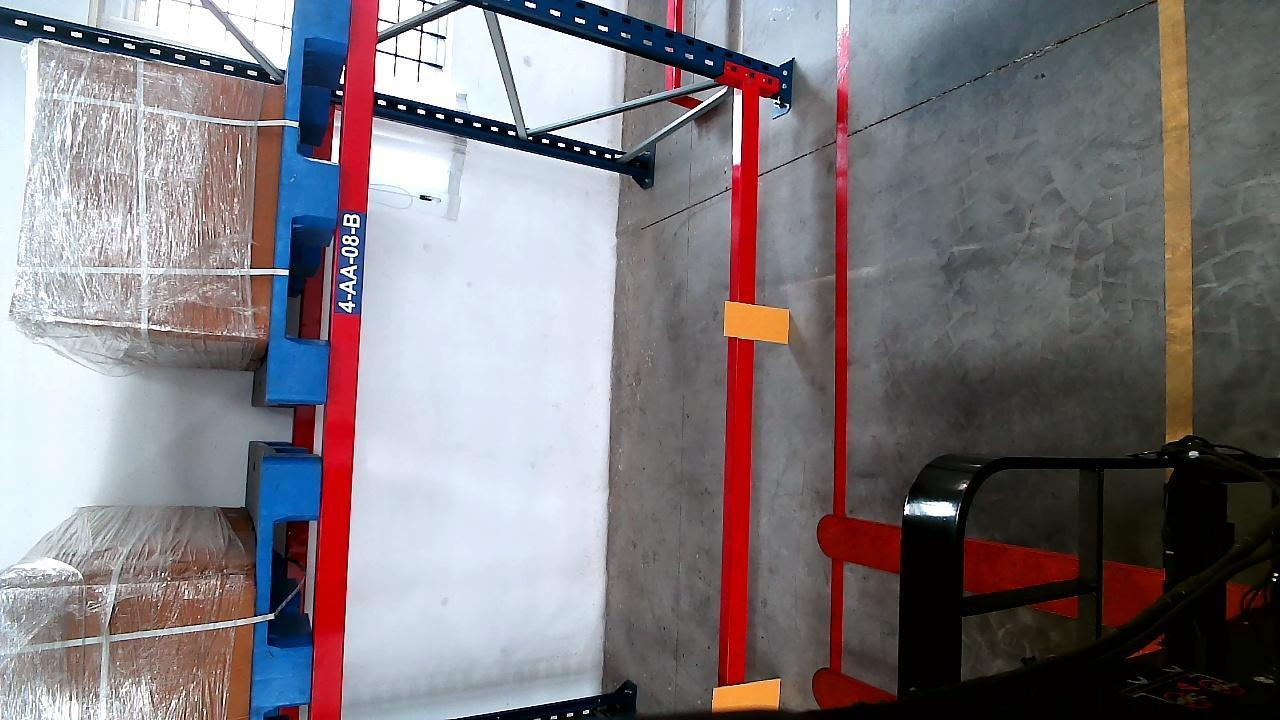h_rack: (308, 0, 382, 720), (721, 86, 762, 710)
orange_strip: (727, 302, 792, 341), (711, 678, 783, 713)
red_line: (830, 0, 850, 668)
small_pallet: (268, 0, 347, 403), (252, 462, 320, 717)
yellow_line: (1161, 0, 1196, 437)
